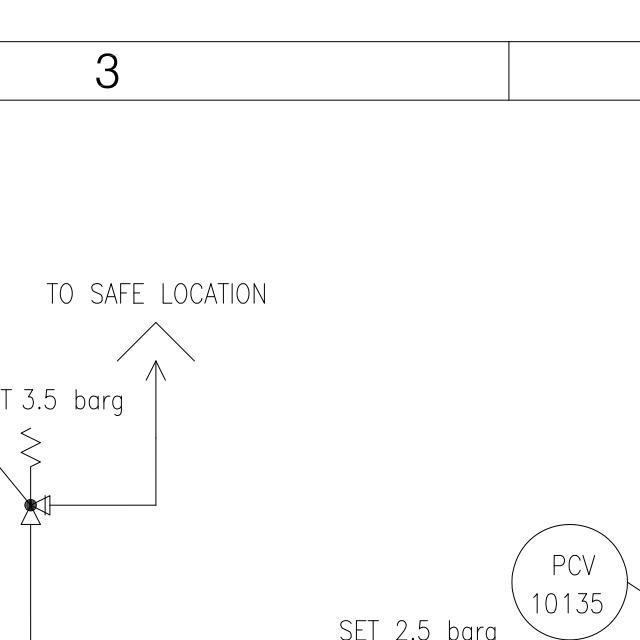RPV: (12, 417, 60, 537)
